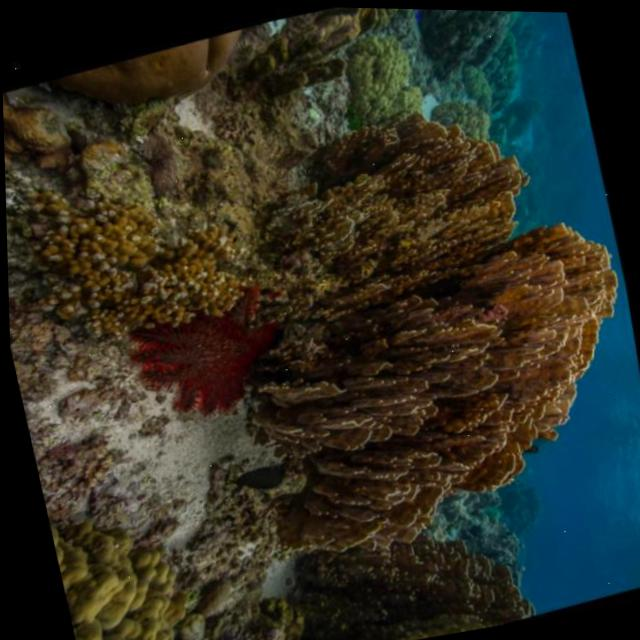Healthy Coral: (200, 73, 640, 568), (46, 498, 226, 640), (42, 18, 272, 126)
